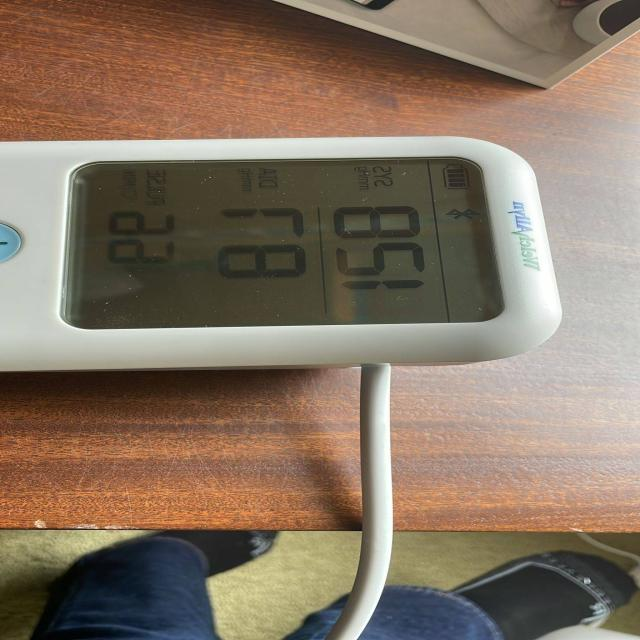bp: (1, 136, 563, 394)
